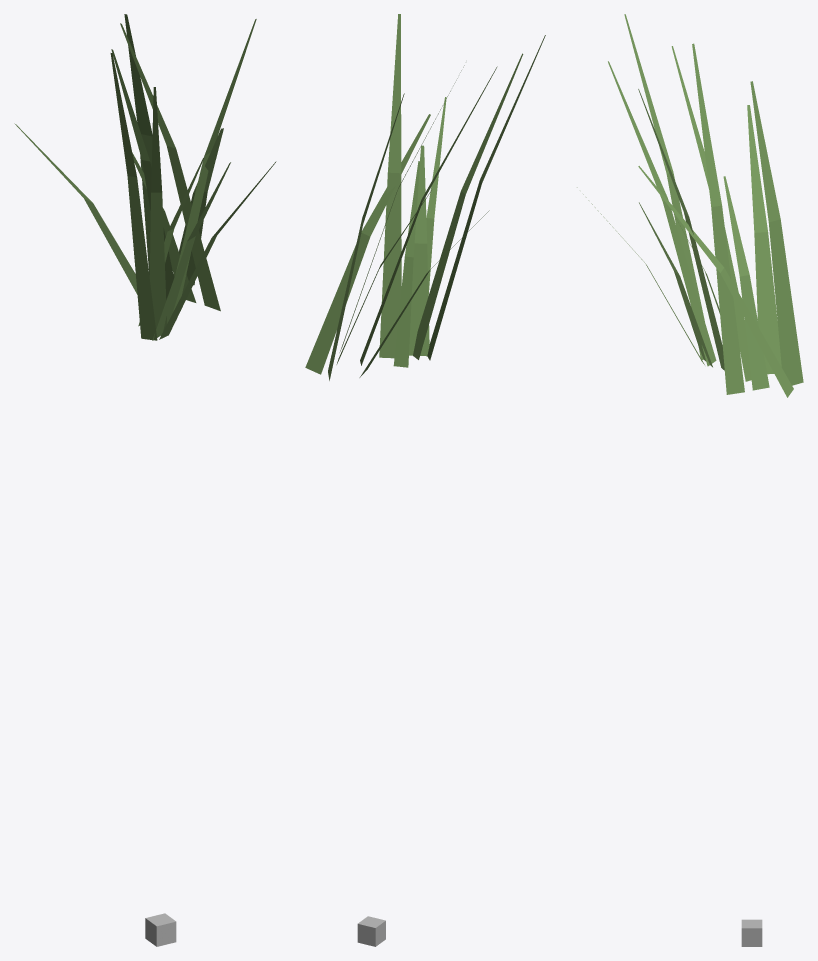
Rendered from rv_fern.gltf.
3 renders of one model, left to right at view 1: azimuth 30°, elevation 25°; view 2: azimuth 150°, elevation 25°; view 3: azimuth 270°, elevation 25°, orthographic. The views are drawn at different scales.
Parts seen in each view (by area): view 1: RV_Fern; view 2: RV_Fern; view 3: RV_Fern.
Part boxes in pixels (x1=…): RV_Fern: x1=14, y1=14, x2=276, y2=946; RV_Fern: x1=305, y1=14, x2=545, y2=946; RV_Fern: x1=577, y1=14, x2=803, y2=946.
Size of the model in its own units: 0.2045 by 0.9404 by 0.2232.
